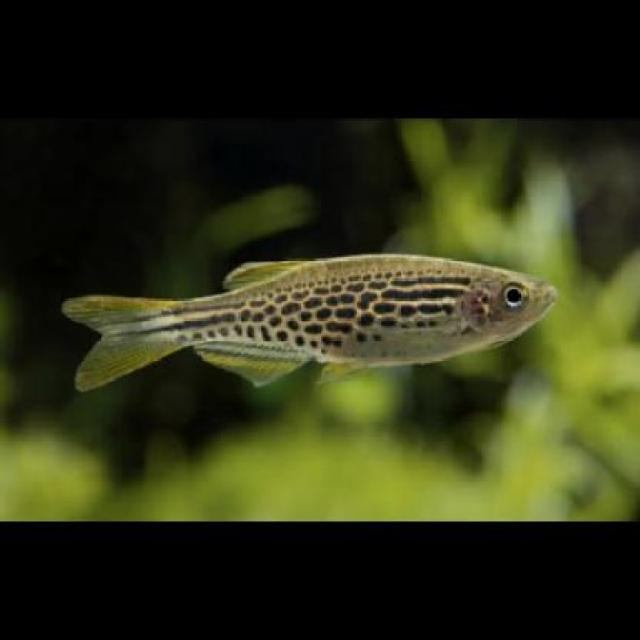ZebraFish: (62, 249, 560, 394)
